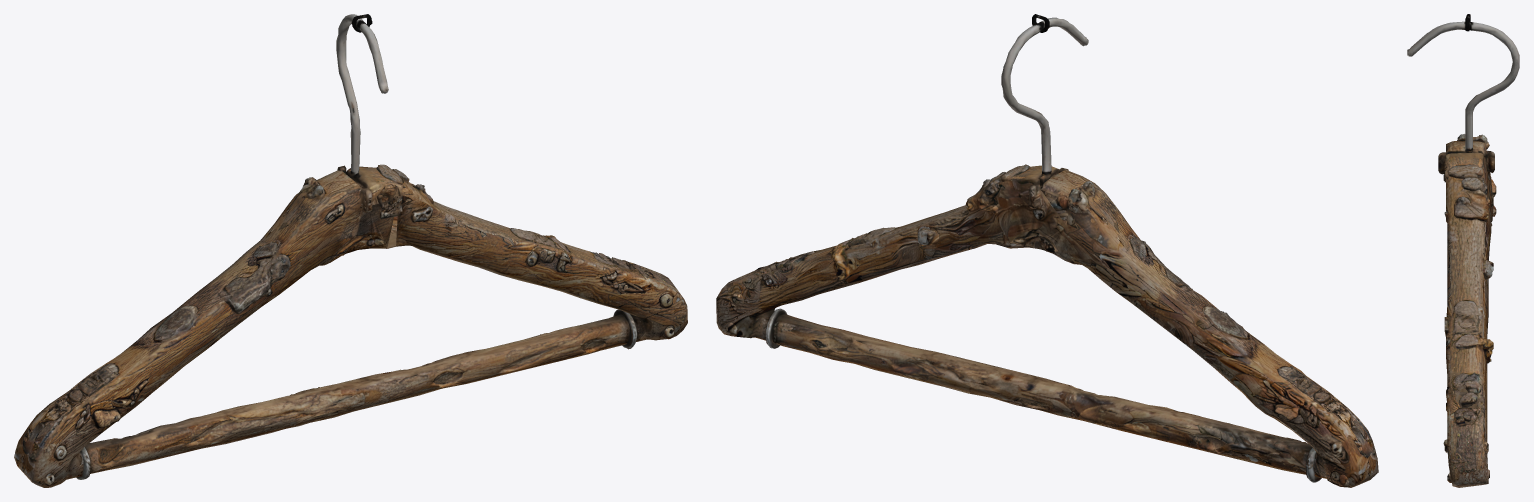
Rendered from prop-empty-hanger-v01.glb.
3 views of the same model, side by side, from view 1: azimuth 30°, elevation 25°; view 2: azimuth 150°, elevation 25°; view 3: azimuth 270°, elevation 25° (orthographic). The views are drawn at different scales.
Visible parts, largest first — view 1: tripo_node_8b124dd8-a110-4b30-98b9-909a554d1805; view 2: tripo_node_8b124dd8-a110-4b30-98b9-909a554d1805; view 3: tripo_node_8b124dd8-a110-4b30-98b9-909a554d1805.
Boxes of the visible parts, left/top/right/bottom form: tripo_node_8b124dd8-a110-4b30-98b9-909a554d1805: left=14, top=14, right=687, bottom=487; tripo_node_8b124dd8-a110-4b30-98b9-909a554d1805: left=716, top=14, right=1378, bottom=487; tripo_node_8b124dd8-a110-4b30-98b9-909a554d1805: left=1407, top=14, right=1519, bottom=487.
Size of the model in its own units: 0.419 by 0.2435 by 0.0713.
1 material, 1 textured.
